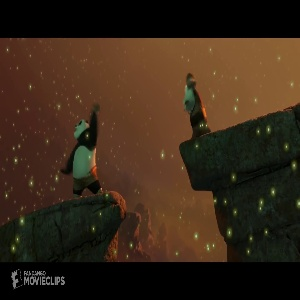po: (60, 103, 107, 199)
shifu: (180, 71, 212, 139)
